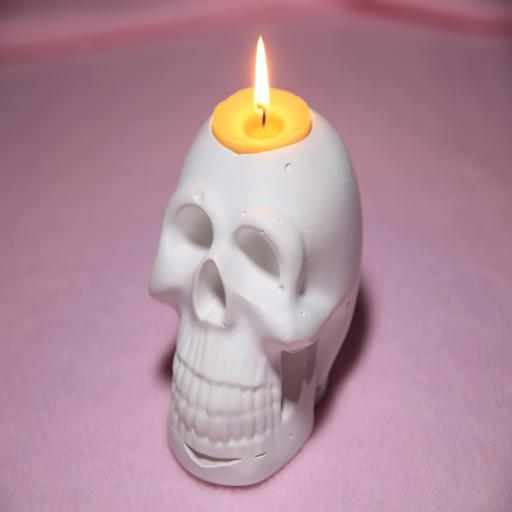candlelight: (198, 35, 319, 193)
